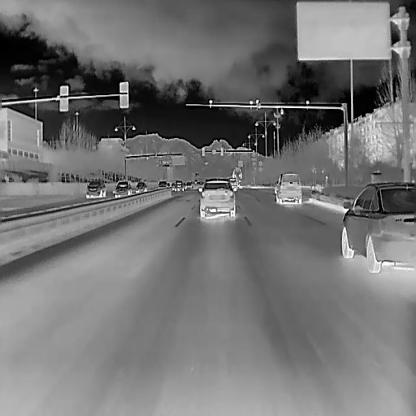car: (342, 182, 416, 272), (198, 178, 236, 218), (274, 171, 302, 204), (84, 180, 106, 198), (114, 181, 132, 197), (134, 181, 147, 193), (228, 176, 237, 190), (174, 179, 184, 191), (156, 180, 166, 188), (185, 180, 192, 188), (193, 178, 198, 184)
truck: (231, 166, 242, 188)
